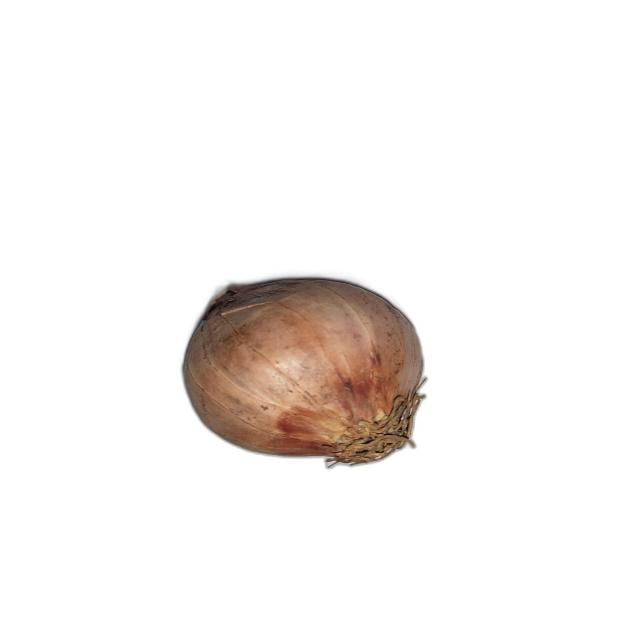onion: (182, 276, 430, 469)
